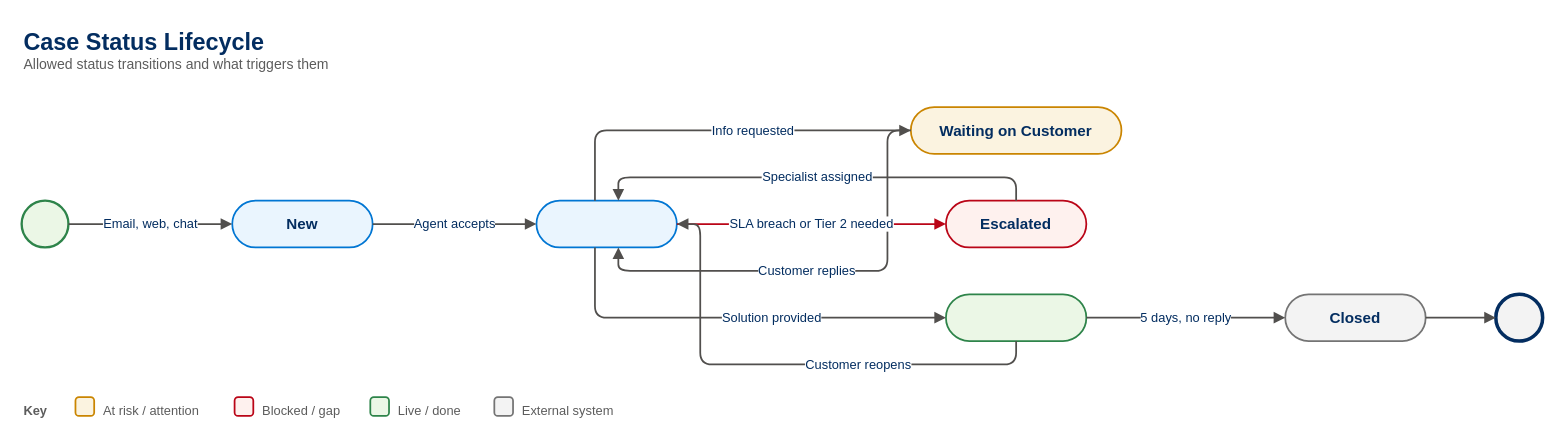
This 1564x439 diagram has some shape labels left out. The shapes that lost their labels are listed below. From the top down, each one's centre as x and y in pixels, then its label:
[606,223]: Working
[1016,317]: Resolved
